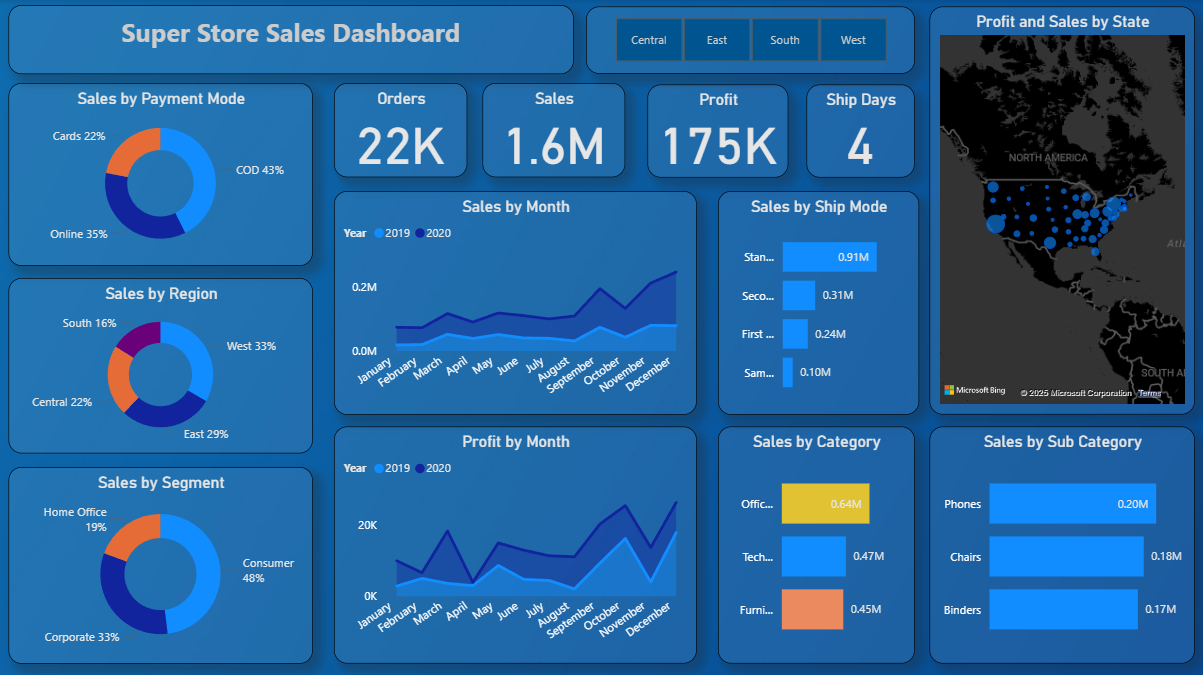

The dashboard page shown, as its layout file describes it:
{"tool":"powerbi","page":{"name":"Page 1","canvas":[1280,720],"ordinal":0},"visuals":[{"type":"barChart","title":"Sales by Category","fields":{"Category":["SuperStore_Sales_Dataset.Category"],"Y":["Sum(SuperStore_Sales_Dataset.Sales)"]},"box":[763.5,453.3,208.4,251.3],"z":0},{"type":"barChart","title":"Sales by Sub Category","fields":{"Y":["Sum(SuperStore_Sales_Dataset.Sales)"],"Category":["SuperStore_Sales_Dataset.Sub-Category"]},"box":[987.8,453.3,281.5,251.3],"z":1000},{"type":"barChart","title":"Sales by Ship Mode","fields":{"Category":["SuperStore_Sales_Dataset.Ship Mode"],"Y":["Sum(SuperStore_Sales_Dataset.Sales)"]},"box":[763.5,203.6,213.1,237],"z":2000},{"type":"stackedAreaChart","title":"Sales by Month","fields":{"Category":["SuperStore_Sales_Dataset.Order Date.Variation.Date Hierarchy.Month"],"Y":["Sum(SuperStore_Sales_Dataset.Sales)"],"Series":["SuperStore_Sales_Dataset.Order Date.Variation.Date Hierarchy.Year"]},"box":[356.3,203.6,384.9,237],"z":3000},{"type":"stackedAreaChart","title":"Profit by Month","fields":{"Category":["SuperStore_Sales_Dataset.Order Date.Variation.Date Hierarchy.Month"],"Series":["SuperStore_Sales_Dataset.Order Date.Variation.Date Hierarchy.Year"],"Y":["Sum(SuperStore_Sales_Dataset.Profit)"]},"box":[356.3,453.3,384.9,251.3],"z":4000},{"type":"map","title":"Profit and  Sales by State","fields":{"Category":["SuperStore_Sales_Dataset.State"],"Size":["Sum(SuperStore_Sales_Dataset.Sales)"]},"box":[987.8,8,281.5,432.6],"z":5000},{"type":"donutChart","title":" Sales by Segment","fields":{"Category":["SuperStore_Sales_Dataset.Segment"],"Y":["Sum(SuperStore_Sales_Dataset.Sales)"]},"box":[11.1,496.3,322.9,208.4],"z":6000},{"type":"donutChart","title":"Sales by Payment Mode","fields":{"Category":["SuperStore_Sales_Dataset.Payment Mode"],"Y":["Sum(SuperStore_Sales_Dataset.Sales)"]},"box":[11.1,89.1,322.9,194.1],"z":7000},{"type":"slicer","fields":{"Values":["SuperStore_Sales_Dataset.Region"]},"box":[623.5,8,348.3,71.6],"z":8000},{"type":"textbox","box":[11.1,6.4,599.7,73.2],"z":9000},{"type":"card","title":"Sales","fields":{"Values":["Sum(SuperStore_Sales_Dataset.Sales)"]},"box":[513.8,89.1,151.1,100.2],"z":10000},{"type":"card","title":"Profit","fields":{"Values":["Sum(SuperStore_Sales_Dataset.Profit)"]},"box":[688.7,90.7,149.5,98.6],"z":11000},{"type":"card","title":"Orders","fields":{"Values":["Sum(SuperStore_Sales_Dataset.Quantity)"]},"box":[356.3,89.1,141.6,100.2],"z":12000},{"type":"card","title":"Ship Days","fields":{"Values":["Avg(SuperStore_Sales_Dataset.AvgDelivery)"]},"box":[857.3,90.7,114.5,98.6],"z":13000},{"type":"donutChart","title":"Sales by Region","fields":{"Category":["SuperStore_Sales_Dataset.Region"],"Y":["Sum(SuperStore_Sales_Dataset.Sales)"]},"box":[11.1,295.9,322.9,186.1],"z":14000}]}

Visuals, with their boxes in screenshot pixels (x1, y1, x2, y2), scaled from the page's 1280x720 canvas onto the 1203x675 screenshot:
"Sales by Category" barChart: BBox(718, 425, 913, 661)
"Sales by Sub Category" barChart: BBox(928, 425, 1193, 661)
"Sales by Ship Mode" barChart: BBox(718, 191, 918, 413)
"Sales by Month" stackedAreaChart: BBox(335, 191, 697, 413)
"Profit by Month" stackedAreaChart: BBox(335, 425, 697, 661)
"Profit and  Sales by State" map: BBox(928, 8, 1193, 413)
" Sales by Segment" donutChart: BBox(10, 465, 314, 661)
"Sales by Payment Mode" donutChart: BBox(10, 84, 314, 266)
slicer - SuperStore_Sales_Dataset.Region: BBox(586, 8, 913, 75)
textbox: BBox(10, 6, 574, 75)
"Sales" card: BBox(483, 84, 625, 177)
"Profit" card: BBox(647, 85, 788, 177)
"Orders" card: BBox(335, 84, 468, 177)
"Ship Days" card: BBox(806, 85, 913, 177)
"Sales by Region" donutChart: BBox(10, 277, 314, 452)
